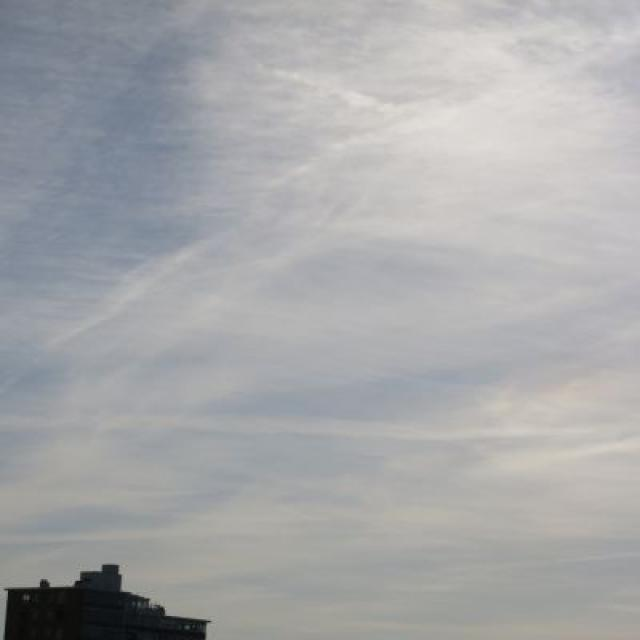Ct: (22, 86, 640, 558)
